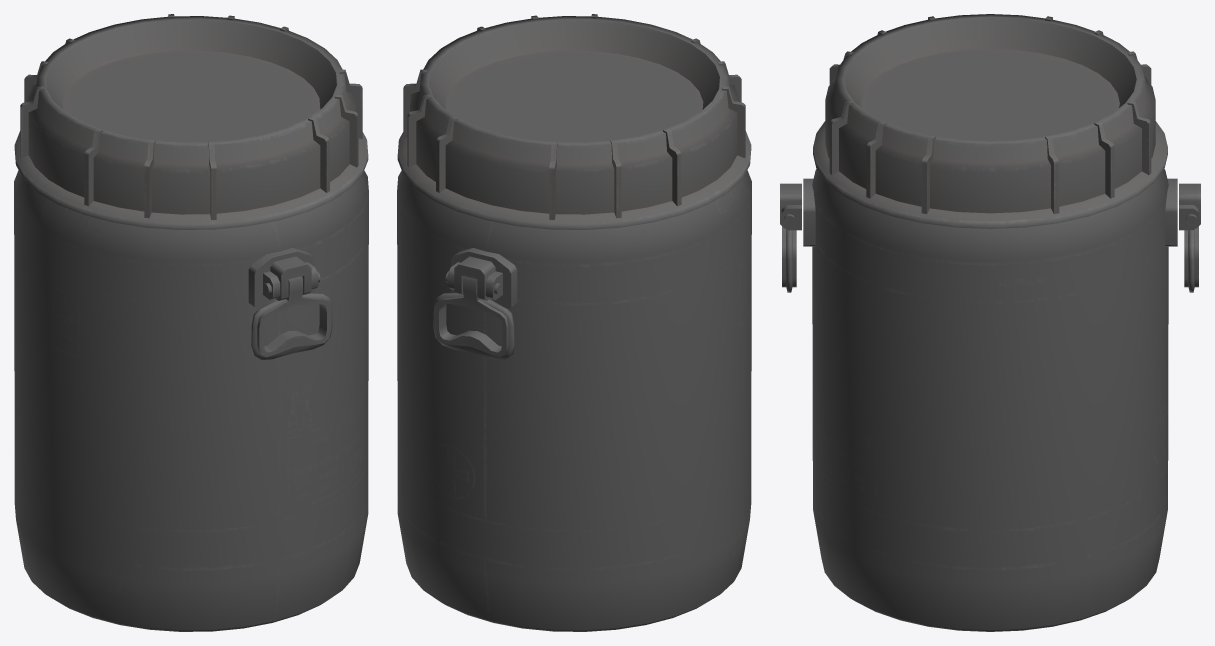
The model's file is SM_BarelPlastic_A_01.fbx.
3 renders of one model, left to right at view 1: azimuth 30°, elevation 25°; view 2: azimuth 150°, elevation 25°; view 3: azimuth 270°, elevation 25°, orthographic.
Visible parts, largest first — view 1: SM_BarelPlastic_A_01_LOD0; view 2: SM_BarelPlastic_A_01_LOD0; view 3: SM_BarelPlastic_A_01_LOD0.
Boxes of the visible parts, x1=… form: SM_BarelPlastic_A_01_LOD0: x1=14, y1=14, x2=368, y2=631; SM_BarelPlastic_A_01_LOD0: x1=397, y1=14, x2=751, y2=631; SM_BarelPlastic_A_01_LOD0: x1=780, y1=14, x2=1200, y2=631.
Size of what is drawn, in the model's own units: 60 by 90.14 by 70.81.
